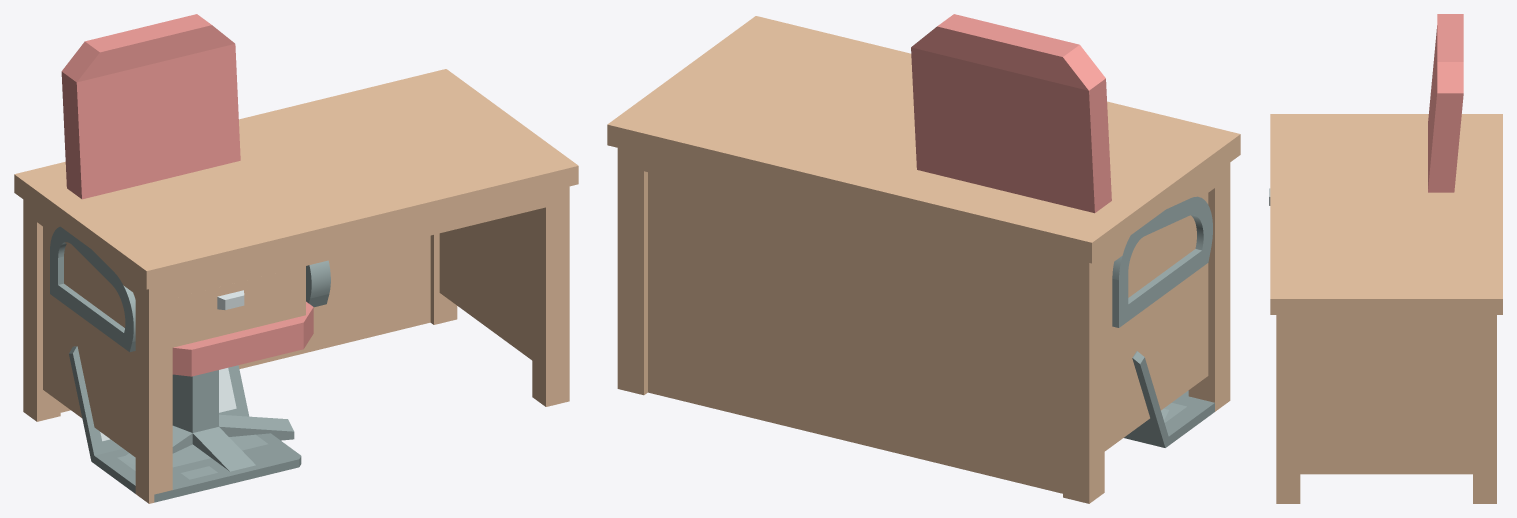
The model's file is props.glb.
3 views of the same model, side by side, from view 1: azimuth 30°, elevation 25°; view 2: azimuth 150°, elevation 25°; view 3: azimuth 270°, elevation 25° (orthographic). The views are drawn at different scales.
Visible parts, largest first — view 1: Mesh desk, chair, laptop(Clone), Mesh chairDesk, drawer; view 2: Mesh desk, chair, laptop(Clone); view 3: Mesh desk, chair.
Part boxes in pixels (x1,y1,x2,y2): Mesh desk: (14, 69, 578, 503); chair: (50, 14, 330, 376); laptop(Clone): (69, 346, 301, 502); Mesh chairDesk: (121, 370, 294, 471); drawer: (172, 270, 288, 328); Mesh desk: (607, 16, 1240, 503); chair: (911, 14, 1212, 327); laptop(Clone): (1124, 351, 1214, 447); Mesh desk: (1270, 114, 1502, 503); chair: (1428, 14, 1463, 192).
Size of the model in its own units: 0.7345 by 0.6076 by 0.3923.
